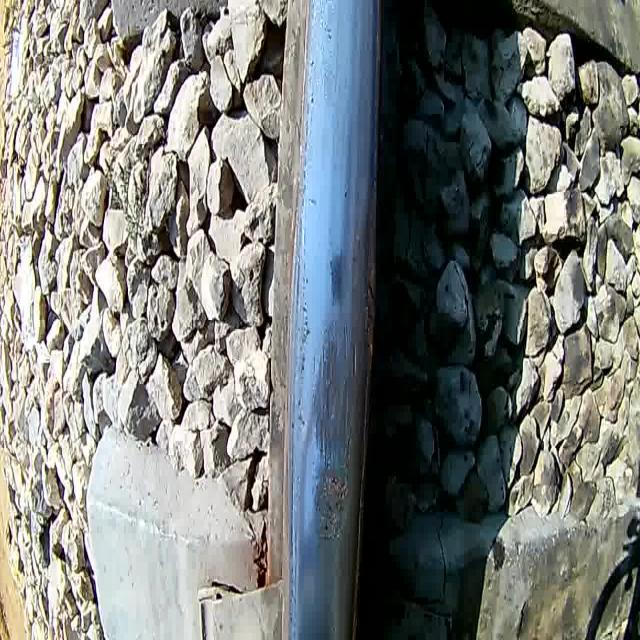Cracks: (347, 329, 361, 389), (341, 416, 355, 472)
Squats: (306, 318, 364, 552)
